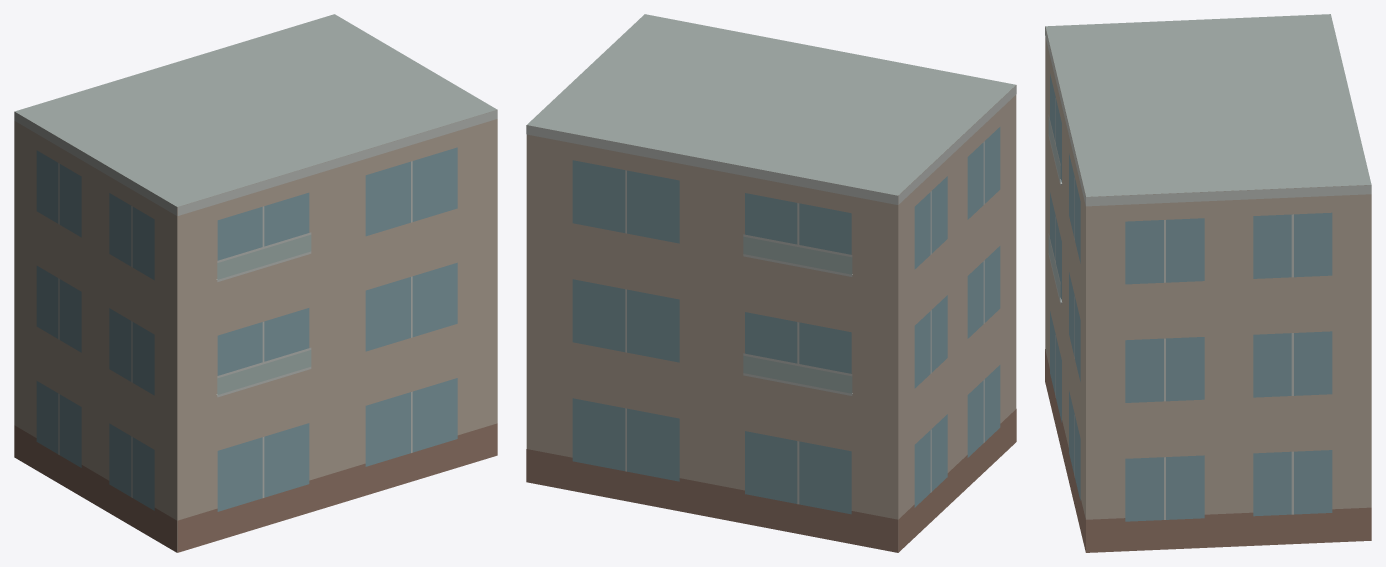
The model's file is survey-upis-32699132.glb.
3 renders of one model, left to right at view 1: azimuth 30°, elevation 25°; view 2: azimuth 150°, elevation 25°; view 3: azimuth 270°, elevation 25°, orthographic. The views are drawn at different scales.
Visible parts, largest first — view 1: survey-upis-32699132.tmp; view 2: survey-upis-32699132.tmp; view 3: survey-upis-32699132.tmp.
Part boxes in pixels (left/top/right/bottom): survey-upis-32699132.tmp: left=14, top=14, right=497, bottom=552; survey-upis-32699132.tmp: left=526, top=14, right=1016, bottom=552; survey-upis-32699132.tmp: left=1045, top=14, right=1371, bottom=552.
Size of the model in its own units: 10.15 by 9.2 by 7.65.
